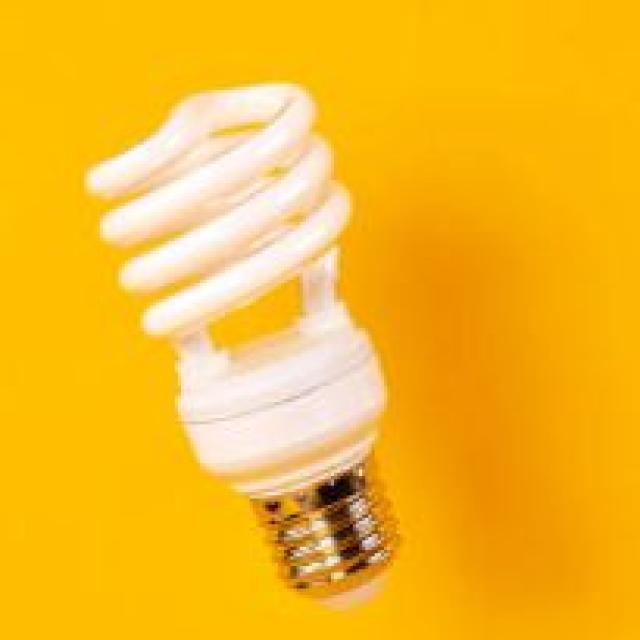electronic: (81, 77, 400, 598)
